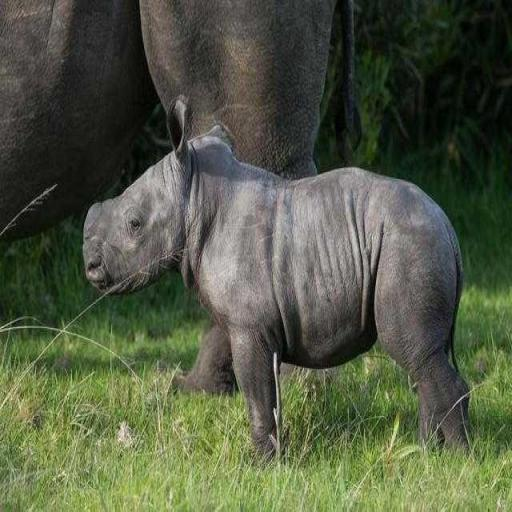Rhino: (80, 94, 474, 468)
